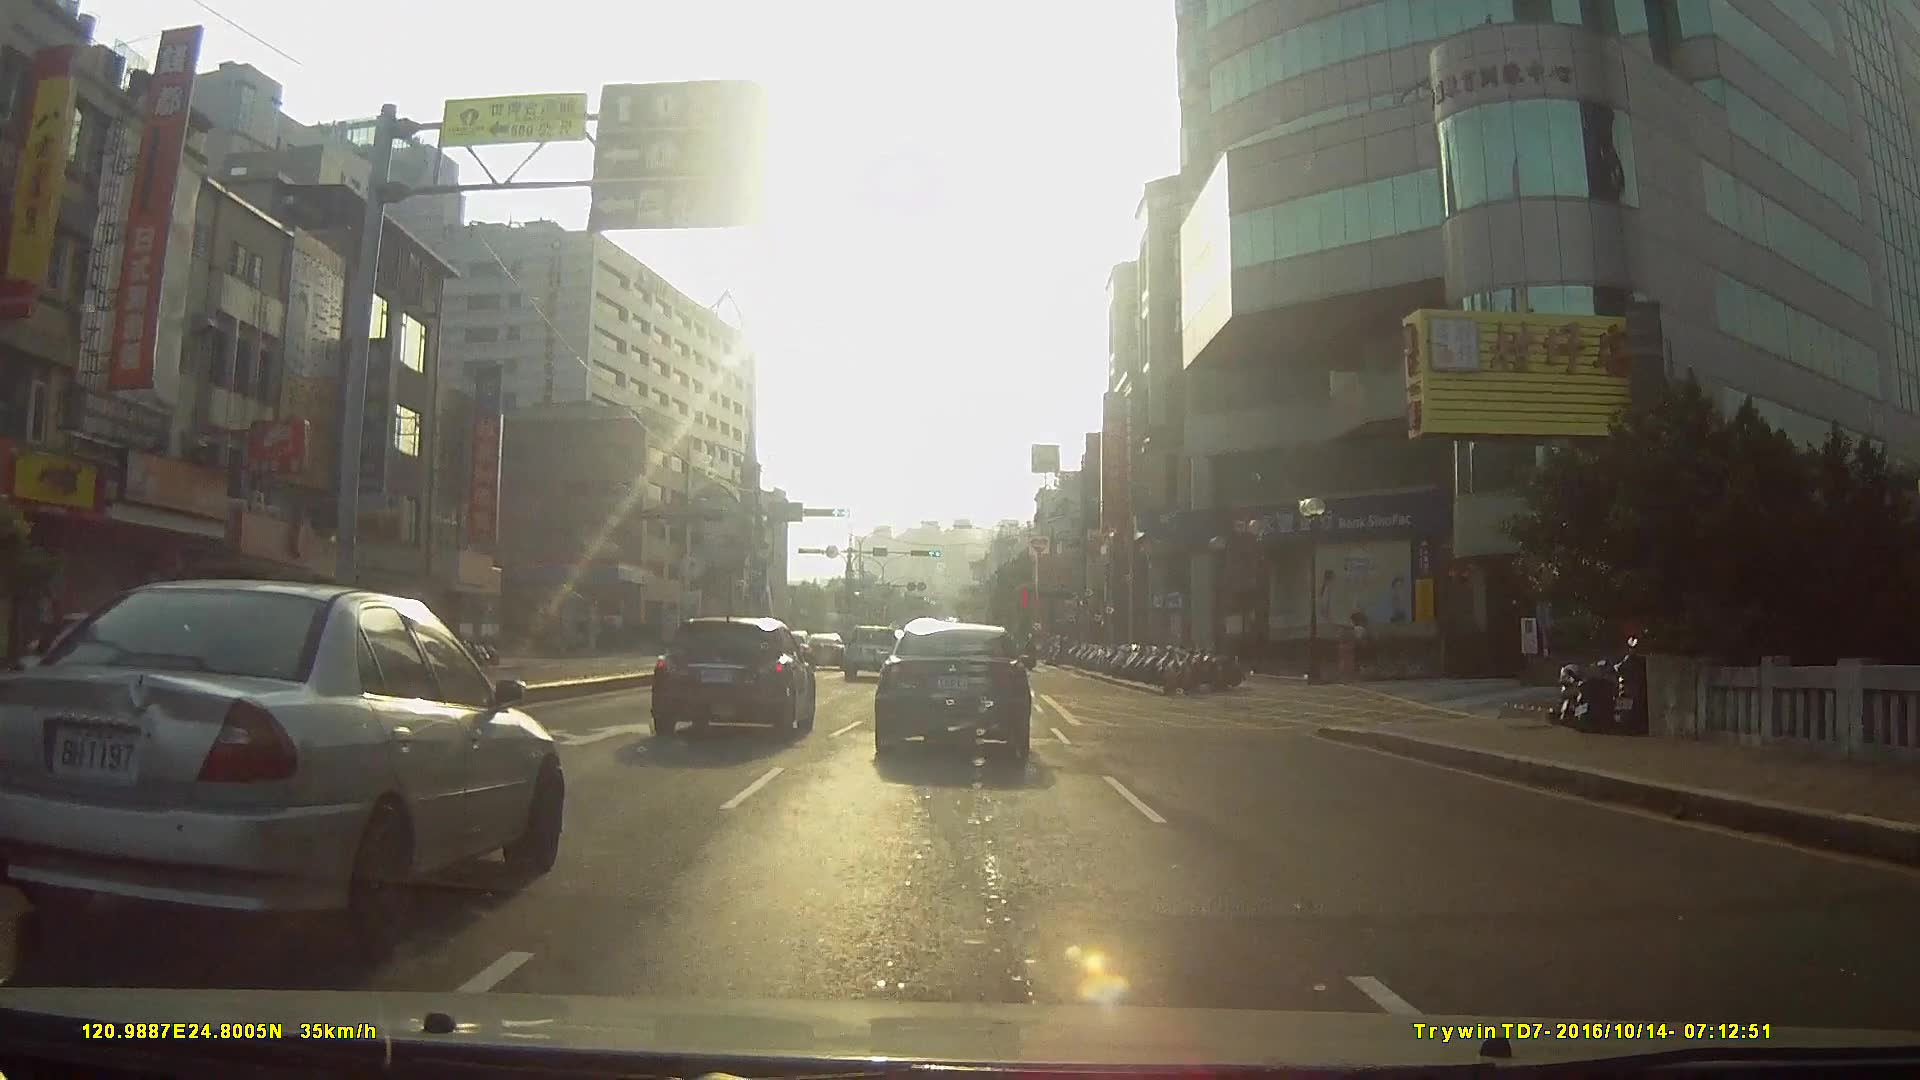vehicle: (0, 571, 559, 959), (873, 611, 1033, 758), (647, 608, 816, 738), (840, 618, 901, 678), (799, 626, 848, 666)
